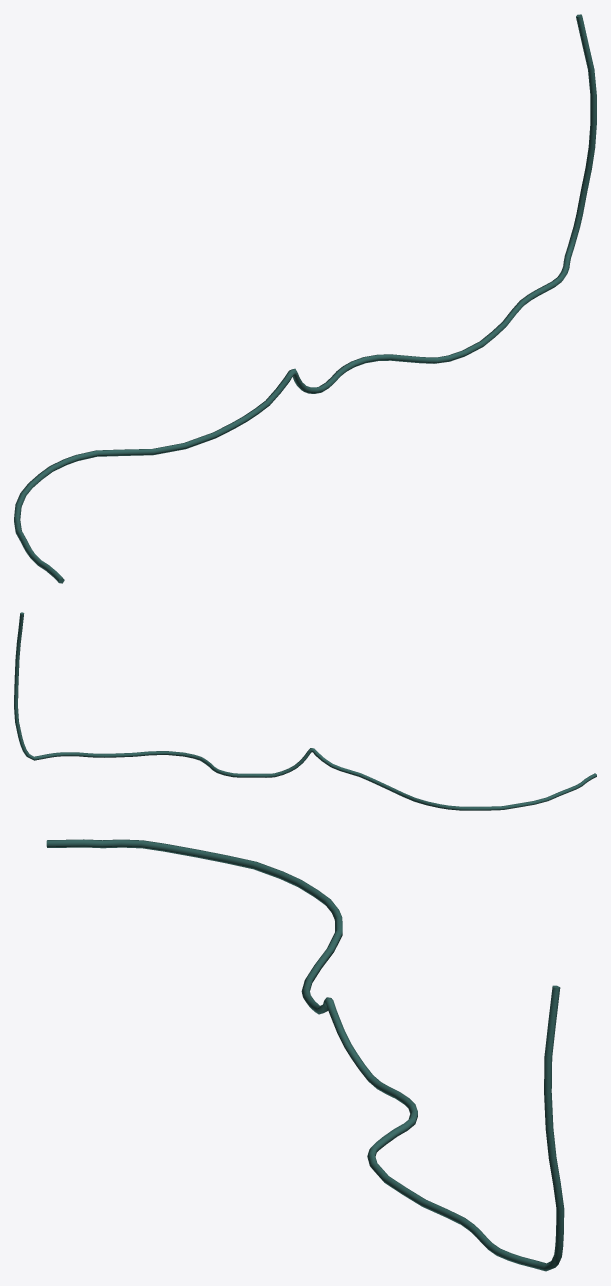
File: CableFloor_Thick_01.glb
3 renders of one model, top to bottom at view 1: azimuth 30°, elevation 25°; view 2: azimuth 150°, elevation 25°; view 3: azimuth 270°, elevation 25°, orthographic. The views are drawn at different scales.
Visible parts, largest first — view 1: CableFloor_Thick_01.001; view 2: CableFloor_Thick_01.001; view 3: CableFloor_Thick_01.001.
Boxes of the visible parts, <box> form: CableFloor_Thick_01.001: <box>14,14,596,583</box>; CableFloor_Thick_01.001: <box>14,612,596,810</box>; CableFloor_Thick_01.001: <box>46,839,564,1271</box>.
Bounding box in the file's own units: 6.49 × 2.02 × 3.18.
